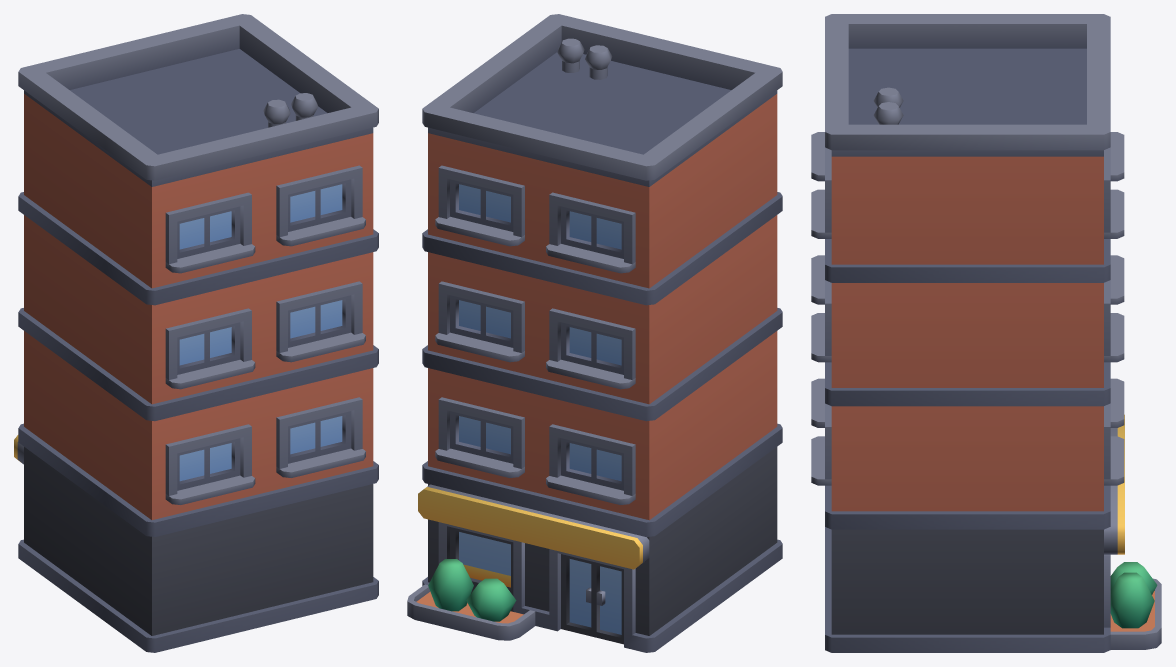
Rendered from building-f-b.glb.
3 renders of one model, left to right at view 1: azimuth 30°, elevation 25°; view 2: azimuth 150°, elevation 25°; view 3: azimuth 270°, elevation 25°, orthographic. The views are drawn at different scales.
Parts seen in each view (by area): view 1: building-f; view 2: building-f; view 3: building-f.
Boxes of the visible parts, x1,y1,x2,y2 form: building-f: (14,14,378,652); building-f: (407,14,782,652); building-f: (811,14,1161,652).
Size of the model in its own units: 0.84 by 1.69 by 1.03.
1 material, 1 textured.
